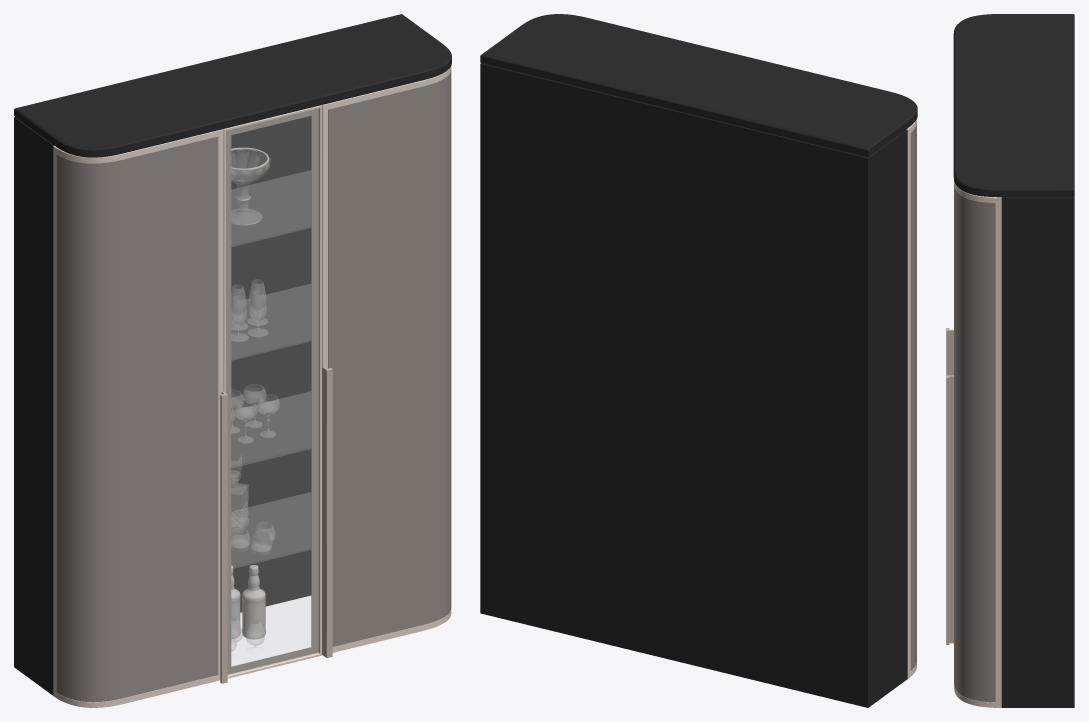
3 views of the same model, side by side, from view 1: azimuth 30°, elevation 25°; view 2: azimuth 150°, elevation 25°; view 3: azimuth 270°, elevation 25° (orthographic). The views are drawn at different scales.
Visible parts, largest first — view 1: Door_Beige_01, Door_Beige_02, Inner_part_Big, Cabinet_glass, Base_up_Big, Shelves_Cup_beige, Handle_cupboard_beige, White_Horse, Fruit_bowl, Wine_glasses_02, Wine_glasses_01, Whiskey_glasses_01 (+2 smaller); view 2: Inner_part_Big, Base_up_Big, Door_Beige_01; view 3: Inner_part_Big, Door_Beige_02, Base_up_Big, Handle_cupboard_beige.
Part boxes in pixels (box(x1,y1,x2,y2)): Door_Beige_01: box(53, 129, 223, 707); Door_Beige_02: box(322, 66, 451, 654); Inner_part_Big: box(14, 116, 311, 695); Cabinet_glass: box(223, 105, 321, 678); Base_up_Big: box(14, 14, 451, 157); Shelves_Cup_beige: box(232, 171, 310, 568); Handle_cupboard_beige: box(220, 367, 332, 683); White_Horse: box(231, 565, 265, 639); Fruit_bowl: box(231, 147, 269, 225); Wine_glasses_02: box(231, 384, 279, 443); Wine_glasses_01: box(231, 280, 267, 341); Whiskey_glasses_01: box(231, 522, 274, 554); Inner_part_Big: box(480, 63, 907, 707); Base_up_Big: box(480, 14, 917, 157); Door_Beige_01: box(907, 119, 916, 678); Inner_part_Big: box(1001, 197, 1074, 707); Door_Beige_02: box(954, 181, 1001, 707); Base_up_Big: box(953, 14, 1074, 197); Handle_cupboard_beige: box(946, 328, 953, 644).
Size of the model in its own units: 2.07 by 2.85 by 0.6377.
